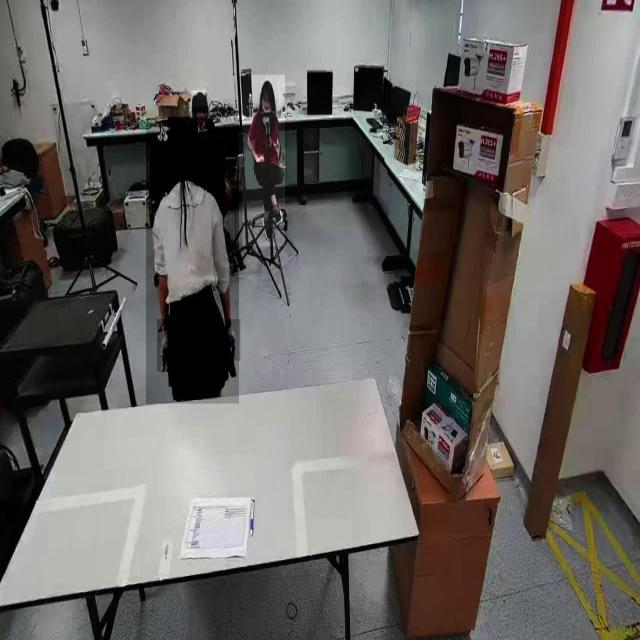hand_glove: (219, 319, 241, 362), (157, 319, 173, 373)
hand_noglove: (256, 154, 264, 162)
head_nohelmet: (168, 116, 198, 150), (191, 90, 208, 108), (261, 78, 275, 94)
person: (146, 118, 240, 404), (242, 75, 286, 247)
shoes: (260, 209, 274, 244), (271, 200, 285, 227)
